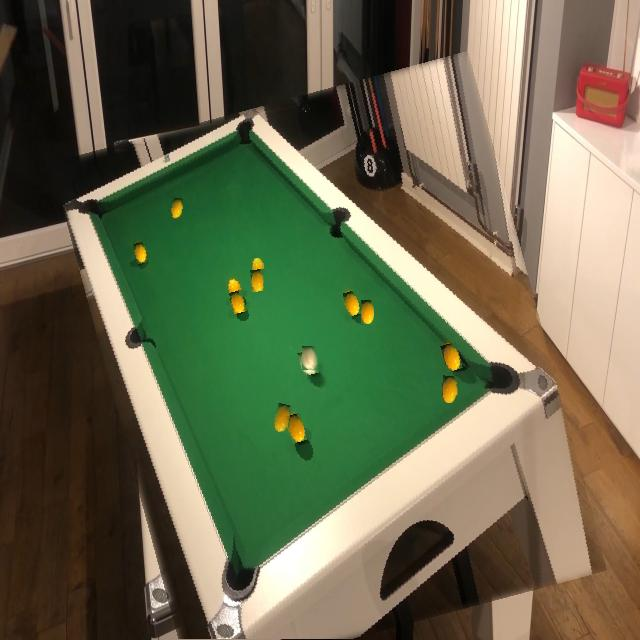Ball: (273, 404, 290, 432), (442, 376, 458, 403), (302, 346, 318, 370), (361, 300, 374, 324), (251, 270, 264, 292), (170, 198, 182, 219), (251, 258, 265, 275)
Billiard table: (81, 74, 576, 640)
